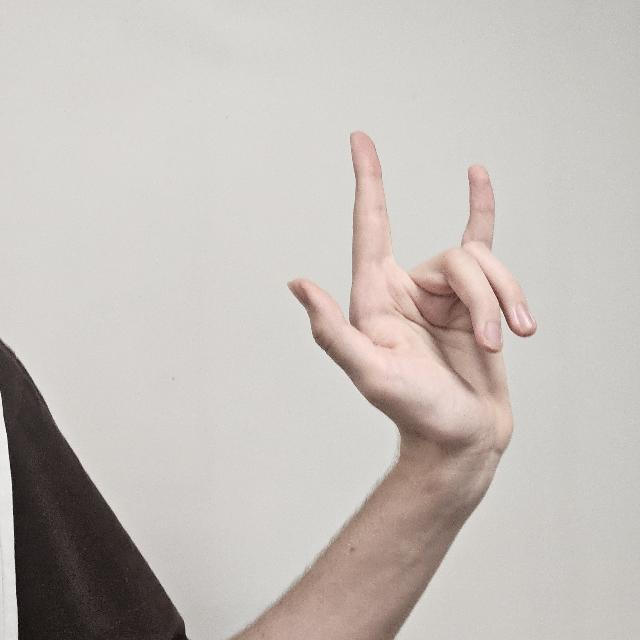Cima: (288, 128, 536, 464)
